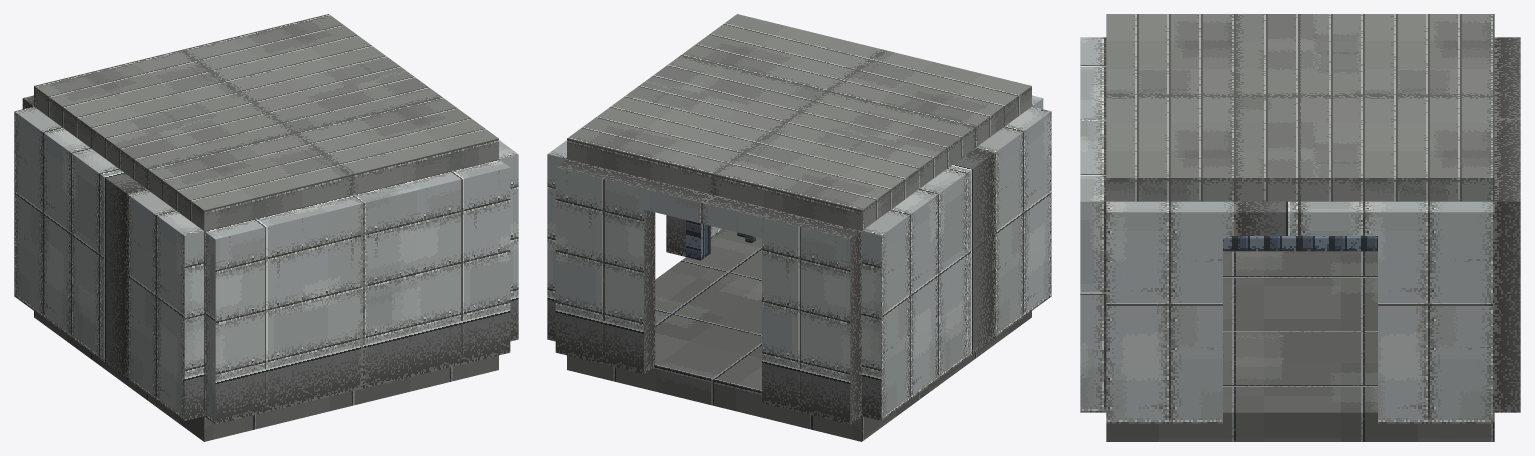
File: shell_corner_left.glb
3 views of the same model, side by side, from view 1: azimuth 30°, elevation 25°; view 2: azimuth 150°, elevation 25°; view 3: azimuth 270°, elevation 25° (orthographic). The views are drawn at different scales.
Parts seen in each view (by area): view 1: shell_corner_left; view 2: shell_corner_left; view 3: shell_corner_left.
Boxes of the visible parts, box(x1,y1,x2,y2) form: shell_corner_left: box(14, 14, 518, 441); shell_corner_left: box(547, 14, 1051, 441); shell_corner_left: box(1080, 14, 1520, 441).
Size of what is drawn, in the model's own units: 6.8 by 4.5 by 6.8.
18 materials, 18 textured.
